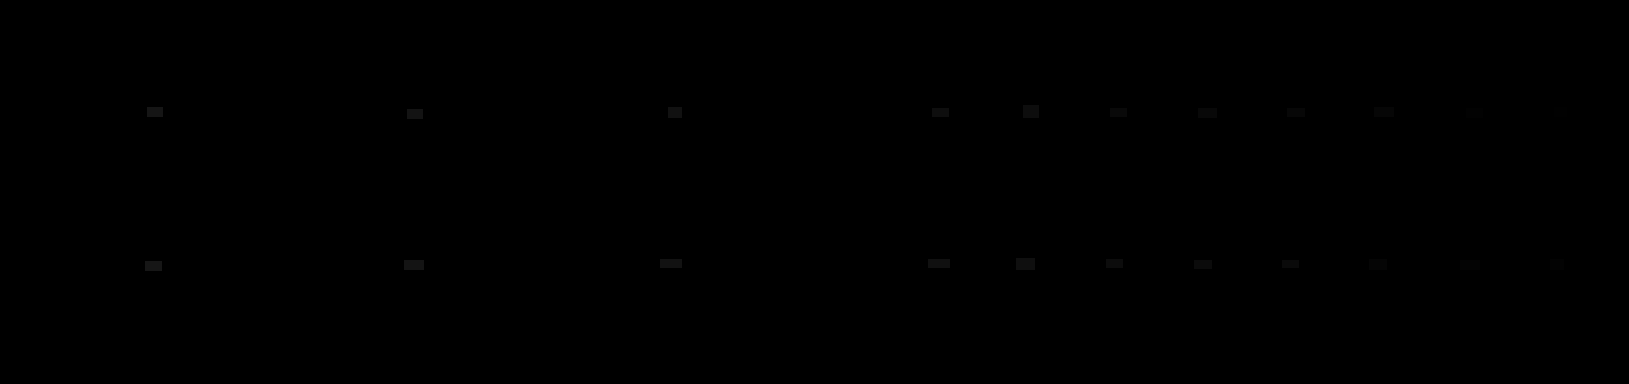light: (1016, 258, 1035, 270), (1023, 105, 1039, 118), (1374, 107, 1394, 117), (1460, 260, 1480, 270), (1198, 108, 1217, 118), (404, 260, 424, 270), (1369, 259, 1387, 270), (928, 259, 950, 268), (660, 259, 682, 268), (1466, 108, 1483, 118), (146, 107, 163, 117), (145, 260, 162, 271), (1287, 108, 1305, 117), (1110, 108, 1127, 117), (407, 109, 423, 119), (1194, 260, 1212, 269), (932, 108, 949, 117), (668, 107, 682, 118), (1550, 259, 1564, 270), (1106, 259, 1123, 268), (1554, 107, 1567, 117), (1282, 260, 1299, 268)
